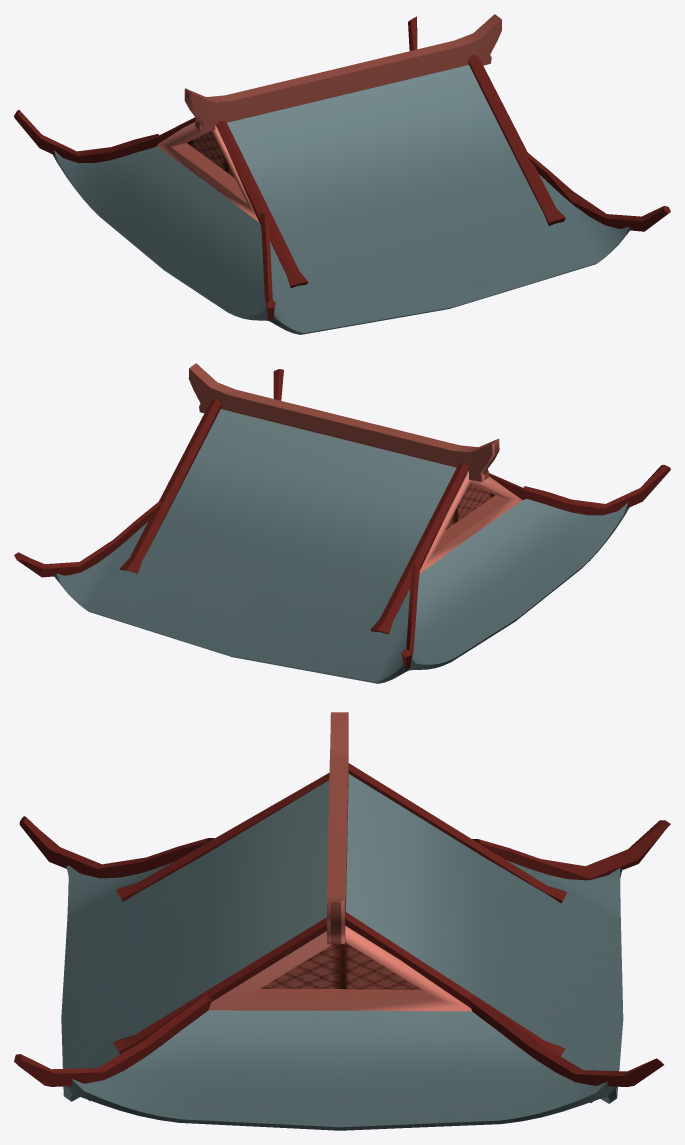
Rendered from roof2.fbx.
3 renders of one model, top to bottom at view 1: azimuth 30°, elevation 25°; view 2: azimuth 150°, elevation 25°; view 3: azimuth 270°, elevation 25°, orthographic. The views are drawn at different scales.
Visible parts, largest first — view 1: roof2; view 2: roof2; view 3: roof2.
Boxes of the visible parts, left/top/right/bottom form: roof2: left=14, top=14, right=670, bottom=334; roof2: left=14, top=363, right=670, bottom=683; roof2: left=14, top=712, right=670, bottom=1130.
Bounding box in the file's own units: 3.97 × 1.64 × 4.47.
